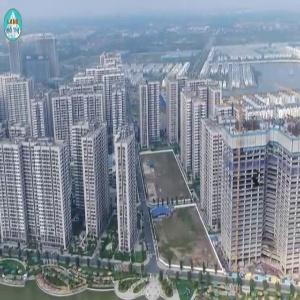drone: (231, 156, 282, 207)
